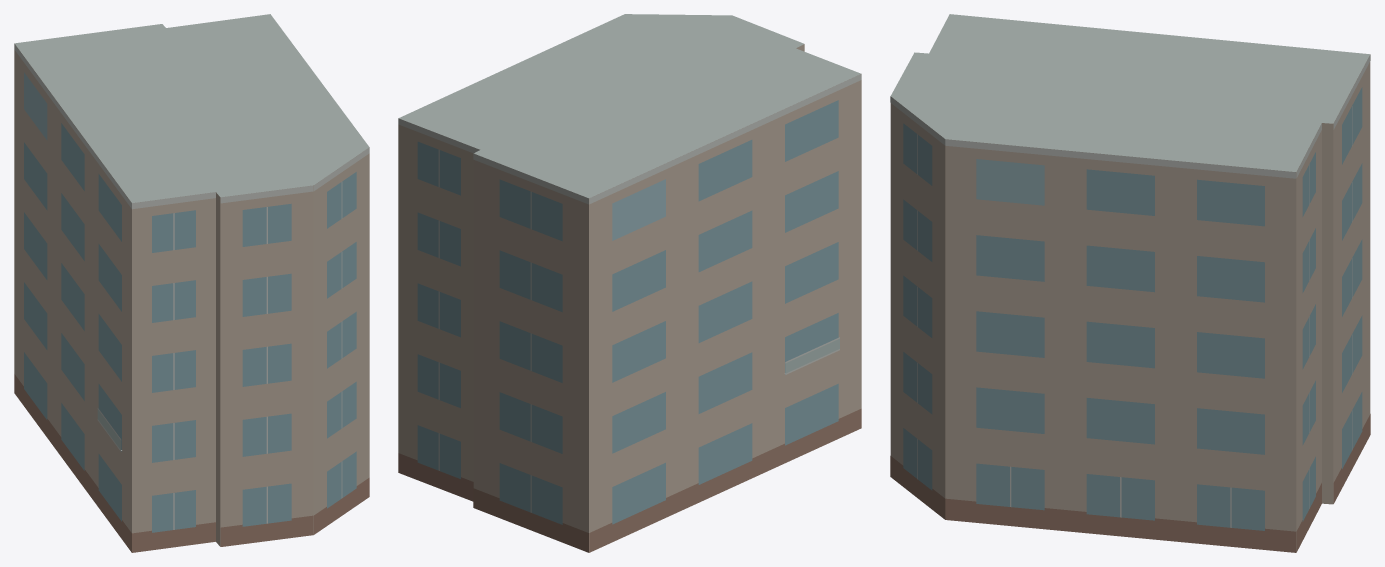
File: survey-upis-32926033.glb
3 renders of one model, left to right at view 1: azimuth 30°, elevation 25°; view 2: azimuth 150°, elevation 25°; view 3: azimuth 270°, elevation 25°, orthographic. The views are drawn at different scales.
Parts seen in each view (by area): view 1: survey-upis-32926033.tmp; view 2: survey-upis-32926033.tmp; view 3: survey-upis-32926033.tmp.
Part boxes in pixels (box(x1,y1,x2,y2)): survey-upis-32926033.tmp: box(14, 14, 369, 552); survey-upis-32926033.tmp: box(398, 14, 861, 552); survey-upis-32926033.tmp: box(890, 14, 1370, 552).
Size of the model in its own units: 12.53 by 14.05 by 16.06.
